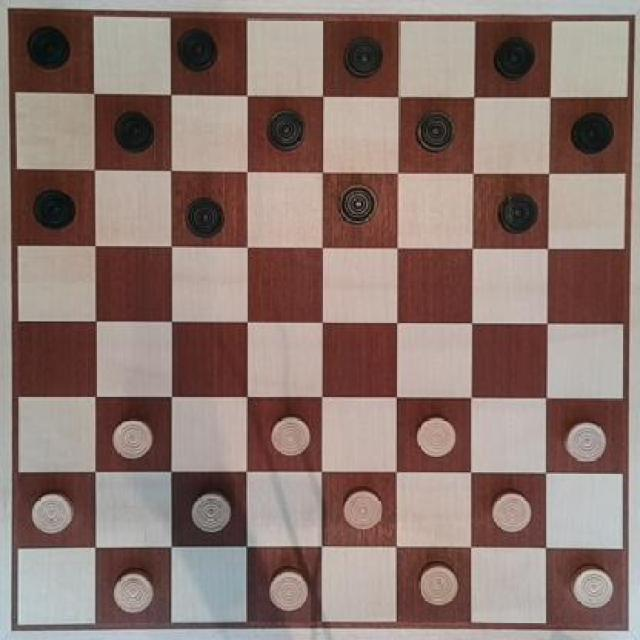BOARD: (11, 8, 632, 631)
black: (560, 106, 619, 164), (490, 187, 545, 240), (105, 103, 156, 158), (338, 29, 389, 83), (24, 19, 76, 71), (490, 31, 540, 81), (411, 106, 457, 159), (266, 102, 310, 155), (180, 189, 229, 236), (32, 184, 78, 234), (333, 180, 383, 226), (173, 27, 220, 72)
white: (261, 558, 315, 616), (411, 411, 464, 468), (413, 555, 465, 612), (333, 484, 386, 538), (108, 564, 159, 616), (560, 412, 612, 463), (108, 412, 159, 462), (263, 411, 314, 461), (566, 559, 616, 610), (186, 489, 237, 536), (29, 488, 75, 539), (488, 487, 536, 534)
